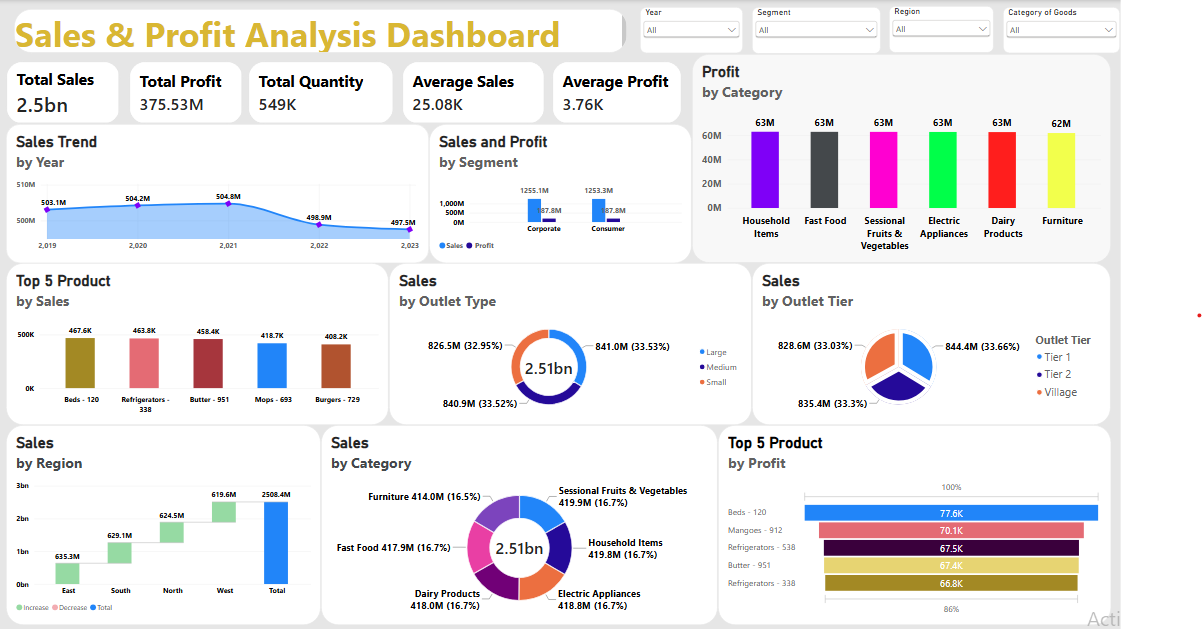

The dashboard page shown, as its layout file describes it:
{"tool":"powerbi","page":{"name":"Page 1","canvas":[1920,1080],"ordinal":0},"visuals":[{"type":"cardVisual","fields":{"Data":["Sum(Superstore_sales_Analysis26 csv.Sales)"]},"box":[12,104.2,194.8,107.7],"z":0},{"type":"cardVisual","fields":{"Data":["Sum(Superstore_sales_Analysis26 csv.Profit)"]},"box":[222.2,104.2,194.8,107.7],"z":1000},{"type":"cardVisual","fields":{"Data":["Sum(Superstore_sales_Analysis26 csv.Quantity)"]},"box":[425.5,104.2,249.5,107.7],"z":2000},{"type":"cardVisual","fields":{"Data":["Avg(Superstore_sales_Analysis26 csv.Sales)"]},"box":[688.7,104.2,244.4,107.7],"z":3000},{"type":"cardVisual","fields":{"Data":["Avg(Superstore_sales_Analysis26 csv.Profit)"]},"box":[945,104.2,222.2,107.7],"z":4000},{"type":"stackedAreaChart","title":"Sales Trend","fields":{"Category":["Superstore_sales_Analysis26 csv.Year"],"Y":["Sum(Superstore_sales_Analysis26 csv.Sales)"]},"box":[12,211.9,722.8,237.5],"z":5000},{"type":"donutChart","fields":{"Category":["Superstore_sales_Analysis26 csv.Category of Goods"],"Y":["Sum(Superstore_sales_Analysis26 csv.Sales)"]},"box":[550.3,726.3,678.4,341.8],"z":6000},{"type":"waterfallChart","fields":{"Category":["Superstore_sales_Analysis26 csv.Region"],"Y":["Sum(Superstore_sales_Analysis26 csv.Sales)"]},"box":[12,726.3,538.3,341.8],"z":7000},{"type":"clusteredColumnChart","fields":{"Category":["Superstore_sales_Analysis26 csv.Category of Goods"],"Y":["Sum(Superstore_sales_Analysis26 csv.Profit)"]},"box":[1184.2,92.3,716,357.2],"z":8000},{"type":"clusteredColumnChart","fields":{"Category":["Superstore_sales_Analysis26 csv.Segment"],"Y":["Sum(Superstore_sales_Analysis26 csv.Sales)","Sum(Superstore_sales_Analysis26 csv.Profit)"]},"box":[734.8,211.9,449.4,237.5],"z":9000},{"type":"columnChart","fields":{"Category":["Superstore_sales_Analysis26 csv.Product Name"],"Y":["Sum(Superstore_sales_Analysis26 csv.Sales)"]},"box":[12,449.4,654.5,276.8],"z":10000},{"type":"funnel","fields":{"Category":["Superstore_sales_Analysis26 csv.Product Name"],"Y":["Sum(Superstore_sales_Analysis26 csv.Profit)"]},"box":[1228.7,726.3,671.6,341.8],"z":11000},{"type":"slicer","fields":{"Values":["Superstore_sales_Analysis26 csv.Year"]},"box":[1095.4,12,176,78.6],"z":12000},{"type":"slicer","fields":{"Values":["Superstore_sales_Analysis26 csv.Segment"]},"box":[1286.8,12,220.4,80.3],"z":13000},{"type":"slicer","fields":{"Values":["Superstore_sales_Analysis26 csv.Region"]},"box":[1520.9,10.3,179.4,80.3],"z":14000},{"type":"slicer","fields":{"Values":["Superstore_sales_Analysis26 csv.Category of Goods"]},"box":[1715.7,12,199.9,78.6],"z":15000},{"type":"textbox","box":[25.6,15.4,1047.5,75.2],"z":16000},{"type":"donutChart","fields":{"Category":["Superstore_sales_Analysis26 csv.Outlet Type"],"Y":["Sum(Superstore_sales_Analysis26 csv.Sales)"]},"box":[666.5,449.4,620.3,276.8],"z":17000},{"type":"pieChart","fields":{"Category":["Superstore_sales_Analysis26 csv.City Type"],"Y":["Sum(Superstore_sales_Analysis26 csv.Sales)"]},"box":[1286.8,449.4,613.5,276.8],"z":18000}]}

Visuals, with their boxes on the page's 1920x1080 design canvas (x1, y1, x2, y2). These are canvas units, not pixel positions in the 1202x629 screenshot, which may show the page scaled, cropped or inside an application window:
cardVisual - Sum(Superstore_sales_Analysis26 csv.Sales): [12,104,207,212]
cardVisual - Sum(Superstore_sales_Analysis26 csv.Profit): [222,104,417,212]
cardVisual - Sum(Superstore_sales_Analysis26 csv.Quantity): [426,104,675,212]
cardVisual - Avg(Superstore_sales_Analysis26 csv.Sales): [689,104,933,212]
cardVisual - Avg(Superstore_sales_Analysis26 csv.Profit): [945,104,1167,212]
"Sales Trend" stackedAreaChart: [12,212,735,449]
donutChart - Superstore_sales_Analysis26 csv.Category of Goods x Sum(Superstore_sales_Analysis26 csv.Sales): [550,726,1229,1068]
waterfallChart - Superstore_sales_Analysis26 csv.Region x Sum(Superstore_sales_Analysis26 csv.Sales): [12,726,550,1068]
clusteredColumnChart - Superstore_sales_Analysis26 csv.Category of Goods x Sum(Superstore_sales_Analysis26 csv.Profit): [1184,92,1900,450]
clusteredColumnChart - Superstore_sales_Analysis26 csv.Segment x Sum(Superstore_sales_Analysis26 csv.Sales): [735,212,1184,449]
columnChart - Superstore_sales_Analysis26 csv.Product Name x Sum(Superstore_sales_Analysis26 csv.Sales): [12,449,666,726]
funnel - Superstore_sales_Analysis26 csv.Product Name x Sum(Superstore_sales_Analysis26 csv.Profit): [1229,726,1900,1068]
slicer - Superstore_sales_Analysis26 csv.Year: [1095,12,1271,91]
slicer - Superstore_sales_Analysis26 csv.Segment: [1287,12,1507,92]
slicer - Superstore_sales_Analysis26 csv.Region: [1521,10,1700,91]
slicer - Superstore_sales_Analysis26 csv.Category of Goods: [1716,12,1916,91]
textbox: [26,15,1073,91]
donutChart - Superstore_sales_Analysis26 csv.Outlet Type x Sum(Superstore_sales_Analysis26 csv.Sales): [666,449,1287,726]
pieChart - Superstore_sales_Analysis26 csv.City Type x Sum(Superstore_sales_Analysis26 csv.Sales): [1287,449,1900,726]
